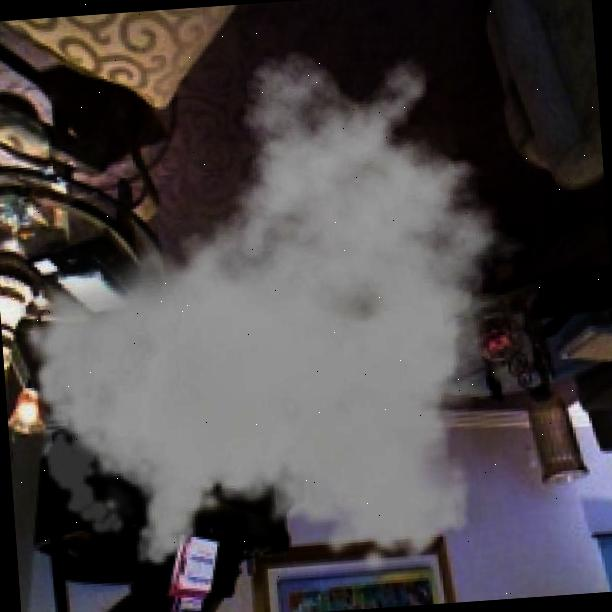smoke: (0, 32, 567, 598)
